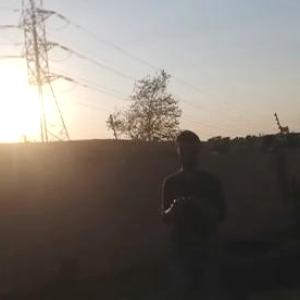follow: (157, 124, 230, 299)
